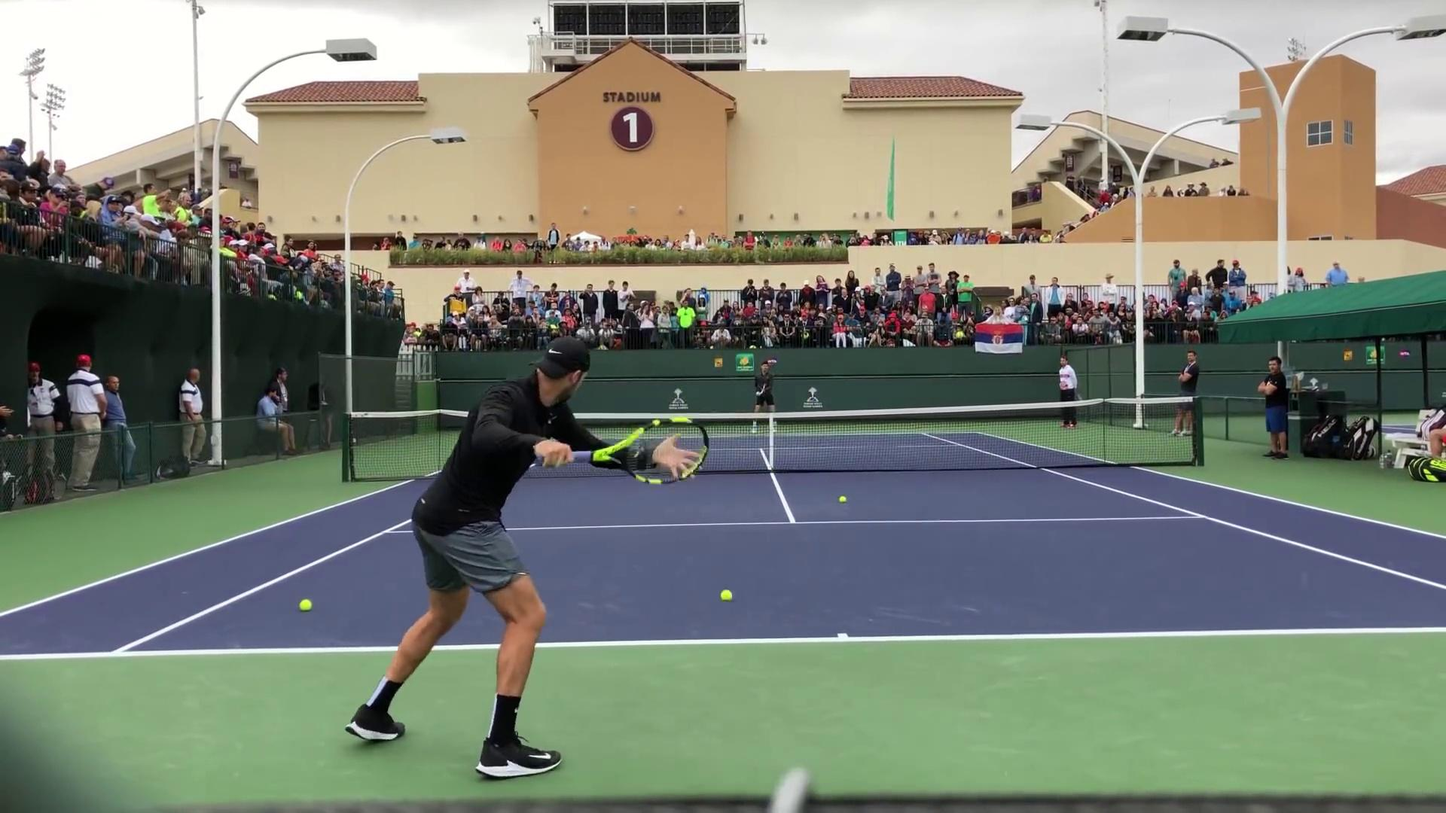ball: (717, 591, 734, 605), (297, 598, 312, 612), (837, 496, 849, 504)
